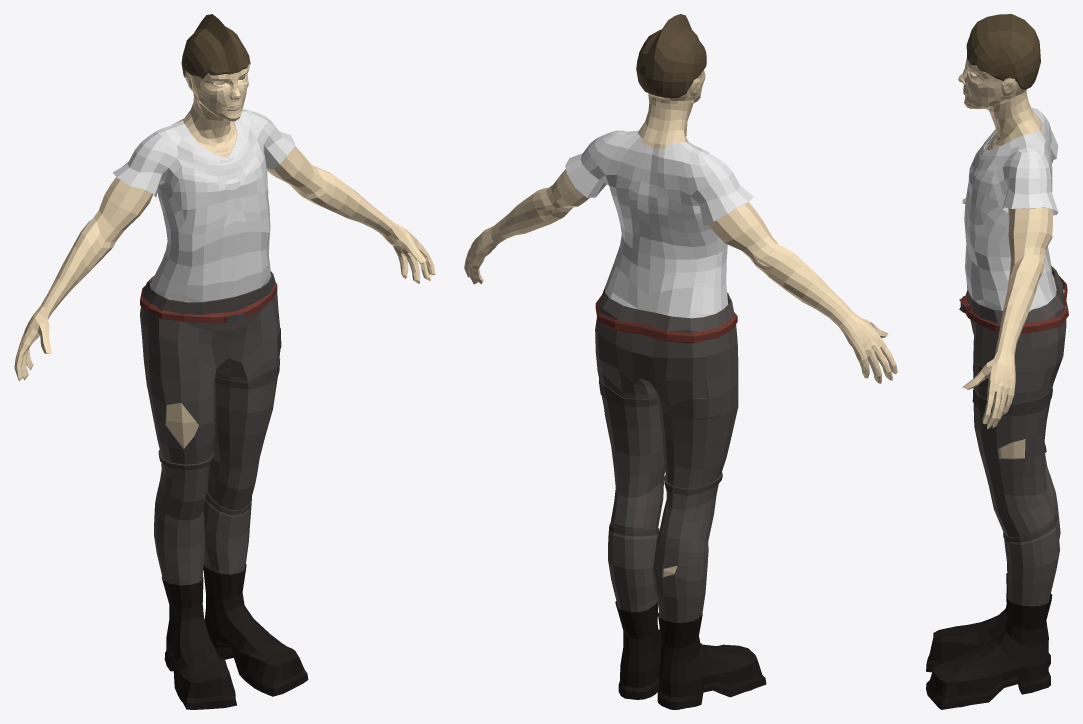
The model's file is BanditFRIEND.fbx.
3 views of the same model, side by side, from view 1: azimuth 30°, elevation 25°; view 2: azimuth 150°, elevation 25°; view 3: azimuth 270°, elevation 25° (orthographic). The views are drawn at different scales.
Parts seen in each view (by area): view 1: Jeans, shirt, MaleBody, boots, hair, Circle; view 2: Jeans, shirt, MaleBody, boots, hair, Circle; view 3: Jeans, shirt, MaleBody, boots, hair, Circle.
Part boxes in pixels (x1,y1,x2,y2): Jeans: (140, 271, 281, 585); shirt: (113, 109, 295, 302); MaleBody: (14, 63, 435, 448); boots: (161, 564, 308, 709); hair: (181, 14, 250, 78); Circle: (140, 283, 277, 323); Jeans: (595, 286, 738, 622); shirt: (565, 130, 753, 318); MaleBody: (464, 69, 897, 576); boots: (615, 601, 766, 709); hair: (636, 14, 706, 98); Circle: (595, 295, 737, 343); Jeans: (967, 265, 1066, 606); shirt: (964, 107, 1058, 311); MaleBody: (958, 58, 1052, 458); boots: (926, 573, 1052, 709); hair: (966, 14, 1040, 89); Circle: (959, 276, 1068, 333).
Size of the model in its own units: 544 by 818 by 159.
